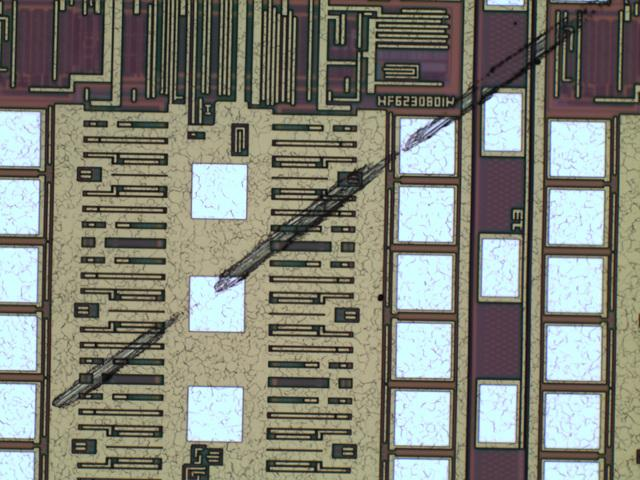SCRATCH: (43, 1, 624, 425)
